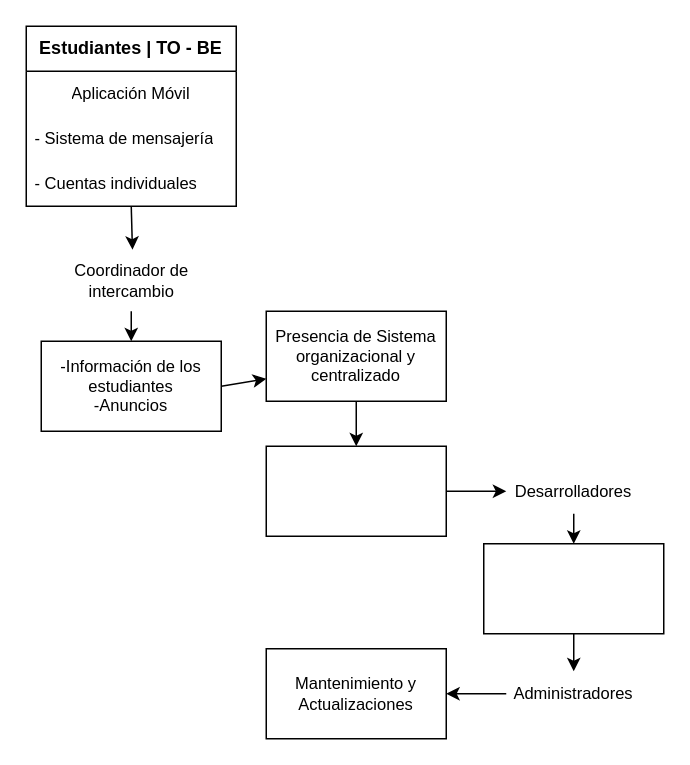
The diagram is 690 pixels wide and 765 high, and some of its shapes have lost their labels. The box of each missing label's shape, as (x1, y1, x2, y2) in pixels:
Entorno de desarrollo: (482, 542, 664, 634)
Experiencia de usuario mas personalizada y mejorada: (265, 445, 446, 536)
